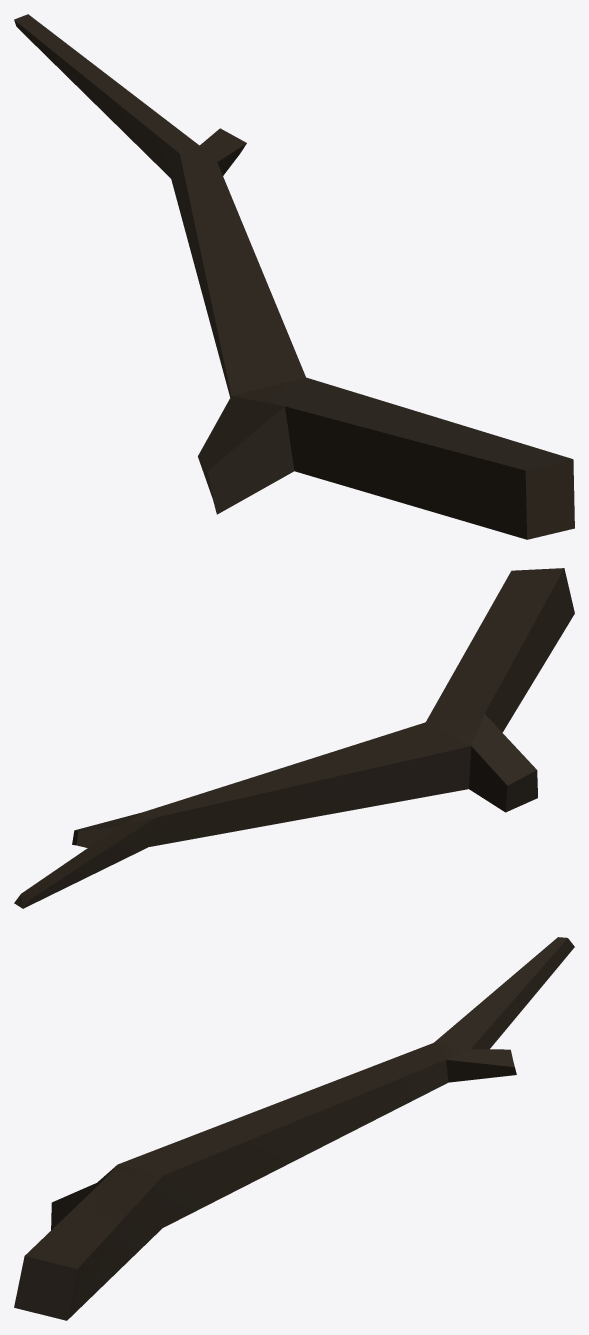
The model's file is synty-tree-twig-03.gltf.
3 views of the same model, one above another, from view 1: azimuth 30°, elevation 25°; view 2: azimuth 150°, elevation 25°; view 3: azimuth 330°, elevation 25° (orthographic). The views are drawn at different scales.
Parts seen in each view (by area): view 1: SM_Tree_Twig_03; view 2: SM_Tree_Twig_03; view 3: SM_Tree_Twig_03.
Boxes of the visible parts, <box> form: SM_Tree_Twig_03: <box>14,14,574,539</box>; SM_Tree_Twig_03: <box>14,568,574,908</box>; SM_Tree_Twig_03: <box>14,937,574,1320</box>.
Size of the model in its own units: 0.1627 by 0.07 by 0.5424.
1 material, 1 textured.
